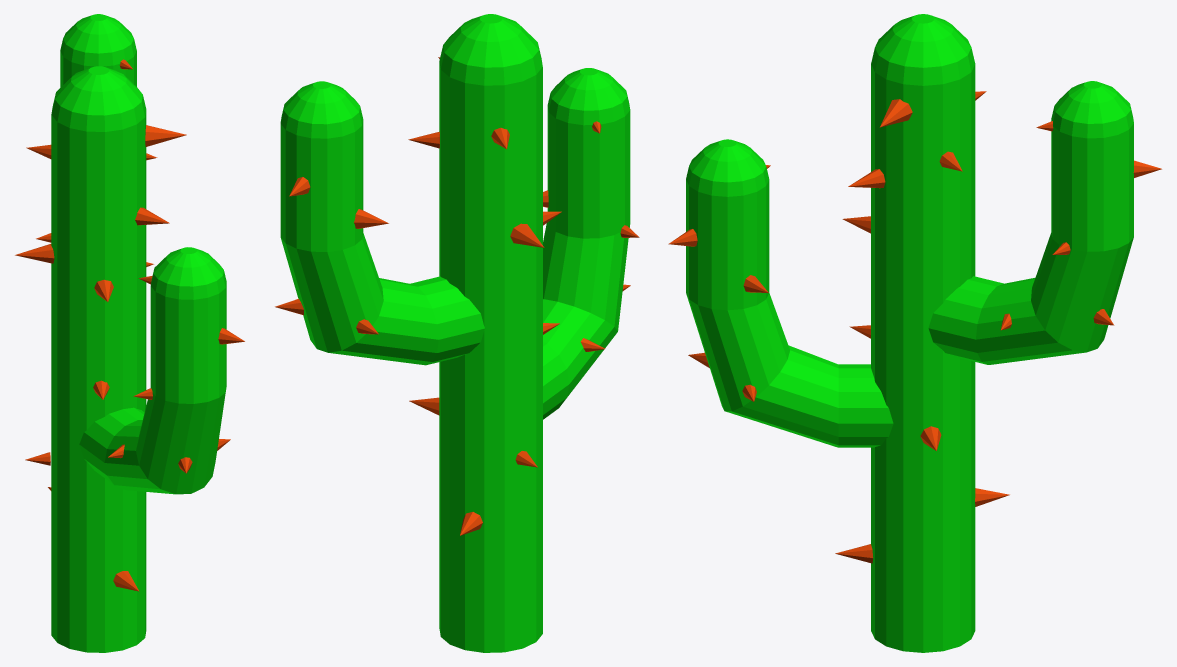
File: Cactus.fbx
3 views of the same model, side by side, from view 1: azimuth 30°, elevation 25°; view 2: azimuth 150°, elevation 25°; view 3: azimuth 270°, elevation 25° (orthographic). The views are drawn at different scales.
Visible parts, largest first — view 1: Cactus; view 2: Cactus; view 3: Cactus.
Boxes of the visible parts, x1,y1,x2,y2 form: Cactus: [15, 14, 244, 652]; Cactus: [275, 14, 639, 652]; Cactus: [668, 14, 1161, 652].
Bounding box in the file's own units: 445 × 1295 × 948.
